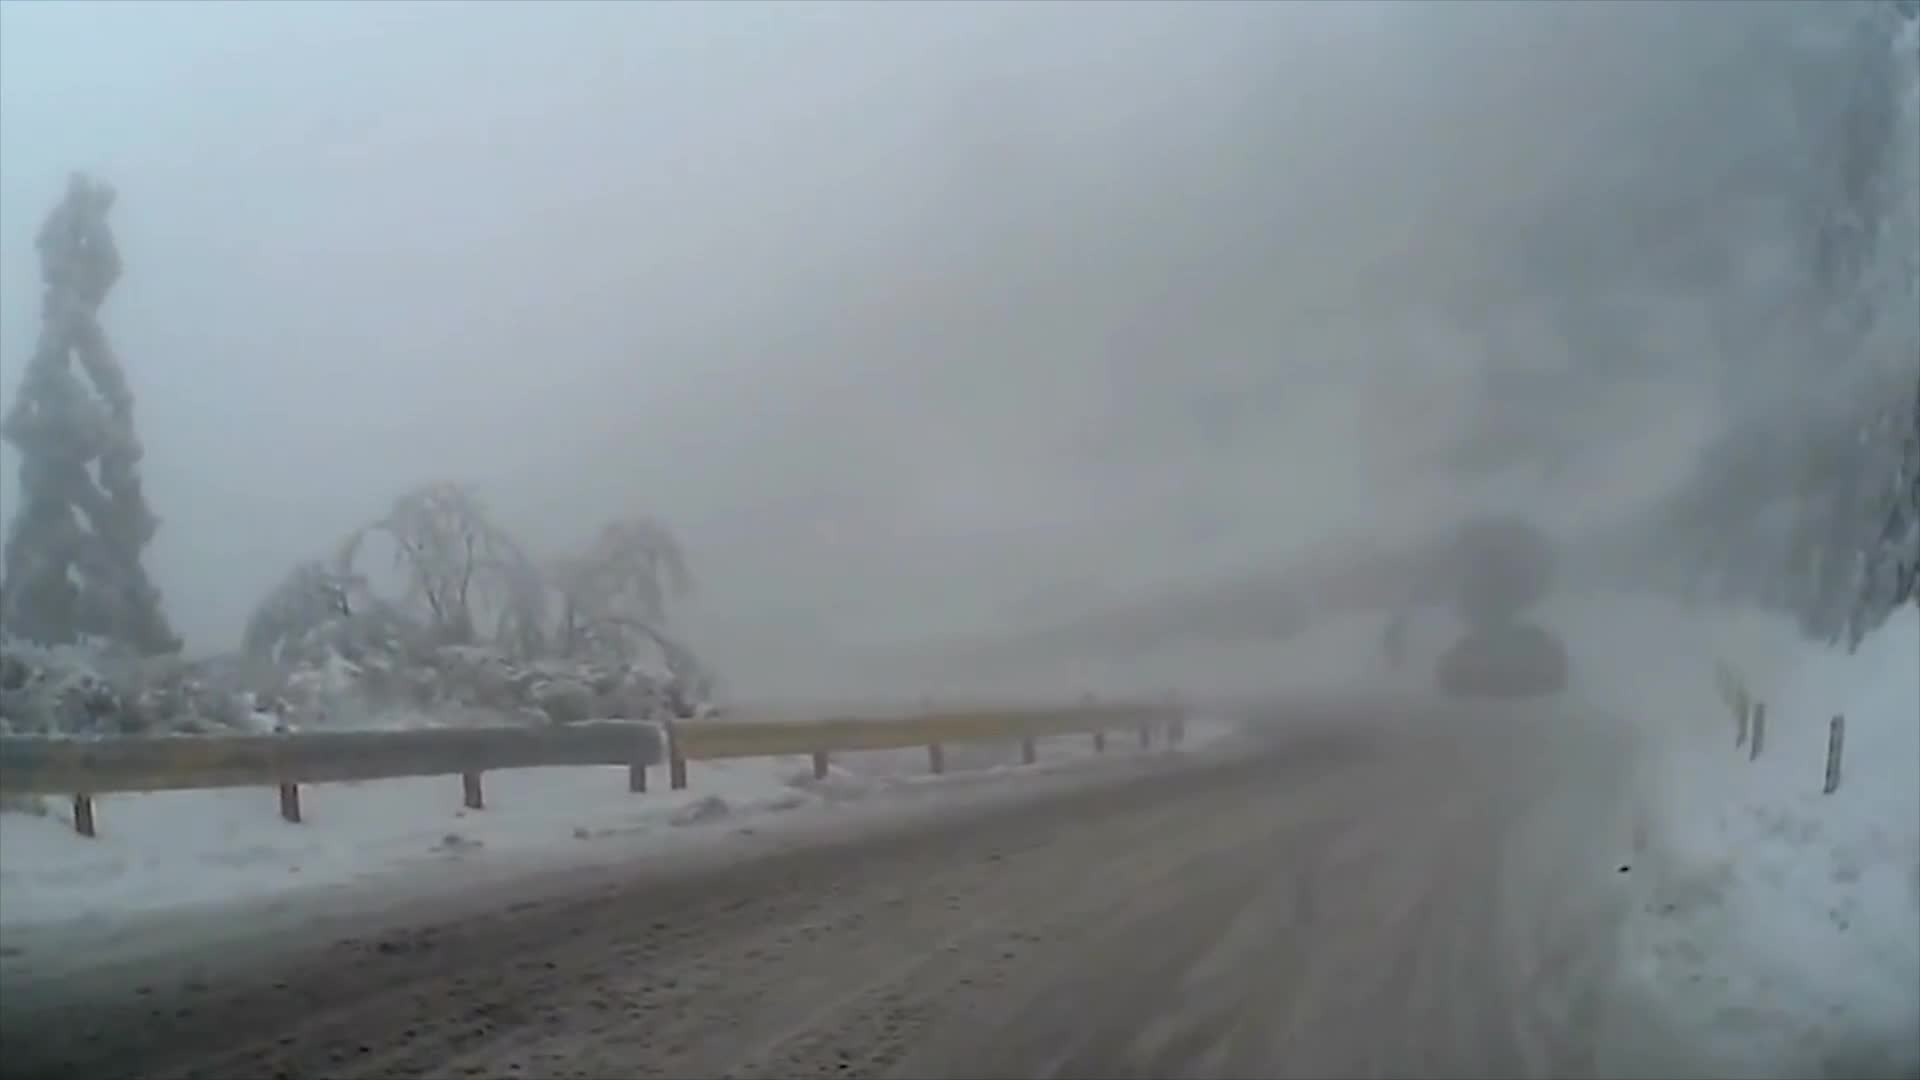vehicle: (1435, 622, 1568, 698)
